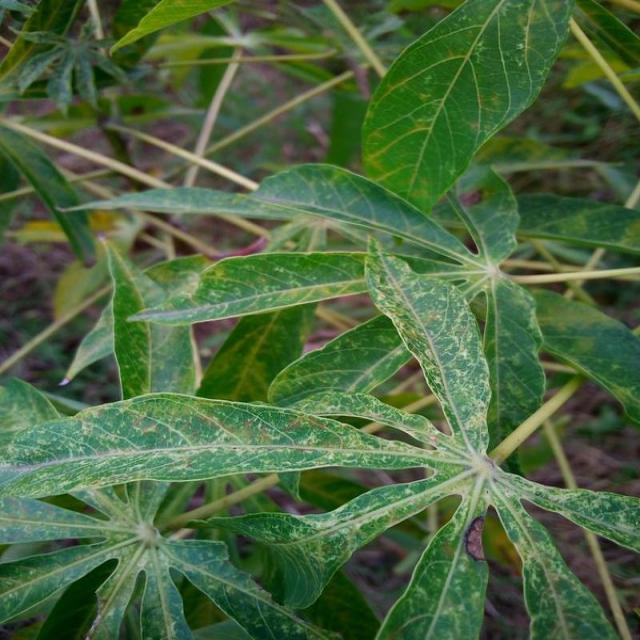cassava leaf: (0, 1, 638, 637), (360, 0, 574, 220), (362, 233, 492, 457)
